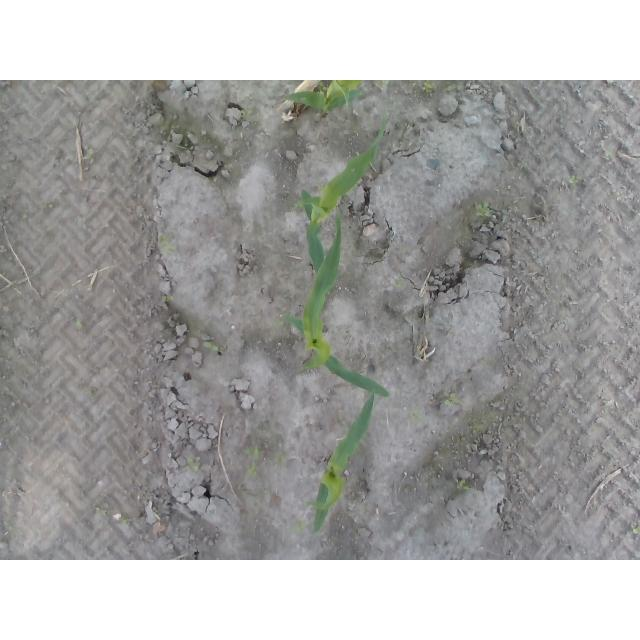Maize: (286, 205, 393, 399), (293, 118, 388, 277), (307, 389, 376, 531), (281, 81, 363, 115)
Weeds: (245, 447, 261, 476), (444, 391, 461, 410), (158, 236, 173, 256), (475, 202, 492, 219), (276, 452, 288, 472), (294, 521, 311, 535), (84, 148, 97, 165), (187, 457, 201, 471), (203, 341, 220, 352), (423, 81, 437, 93), (457, 480, 472, 490), (412, 410, 422, 424), (393, 279, 406, 289), (239, 110, 253, 119), (570, 176, 582, 185), (123, 520, 133, 529), (161, 297, 175, 303), (76, 321, 84, 329), (276, 320, 285, 327)
